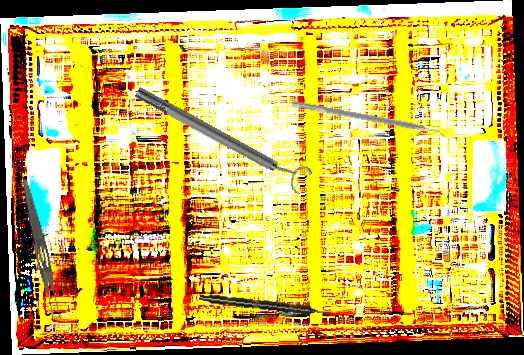Dressing Forceps: (15, 177, 65, 322)
Fixation Ring: (130, 76, 314, 198)
Handpiece: (198, 292, 331, 319)
Spatula Surgical: (290, 100, 449, 141)
